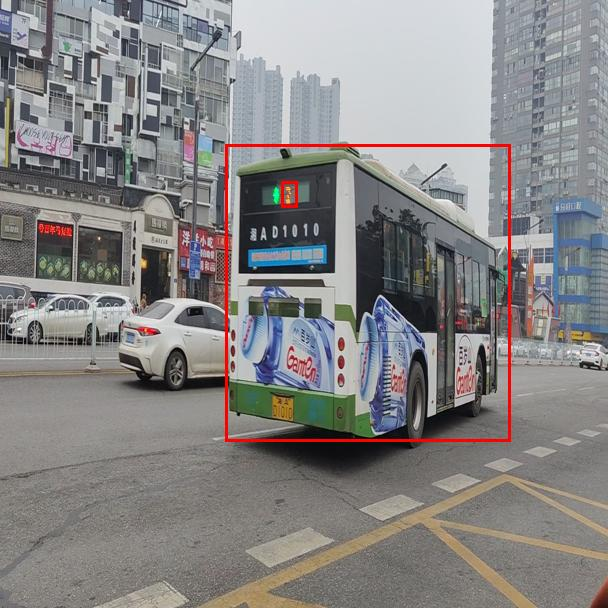bus: (225, 144, 510, 441)
screen: (281, 181, 297, 207)
